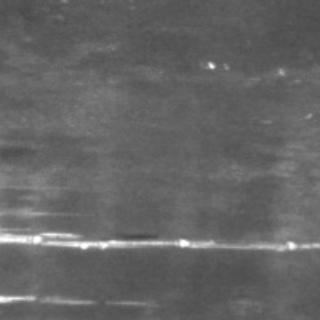scratches: (1, 221, 316, 253), (1, 288, 138, 308)
